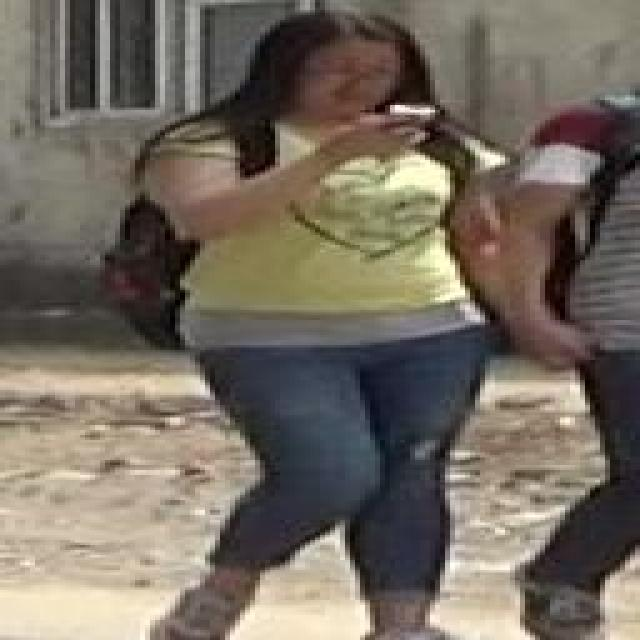adult: (132, 12, 524, 640), (517, 79, 640, 617)
